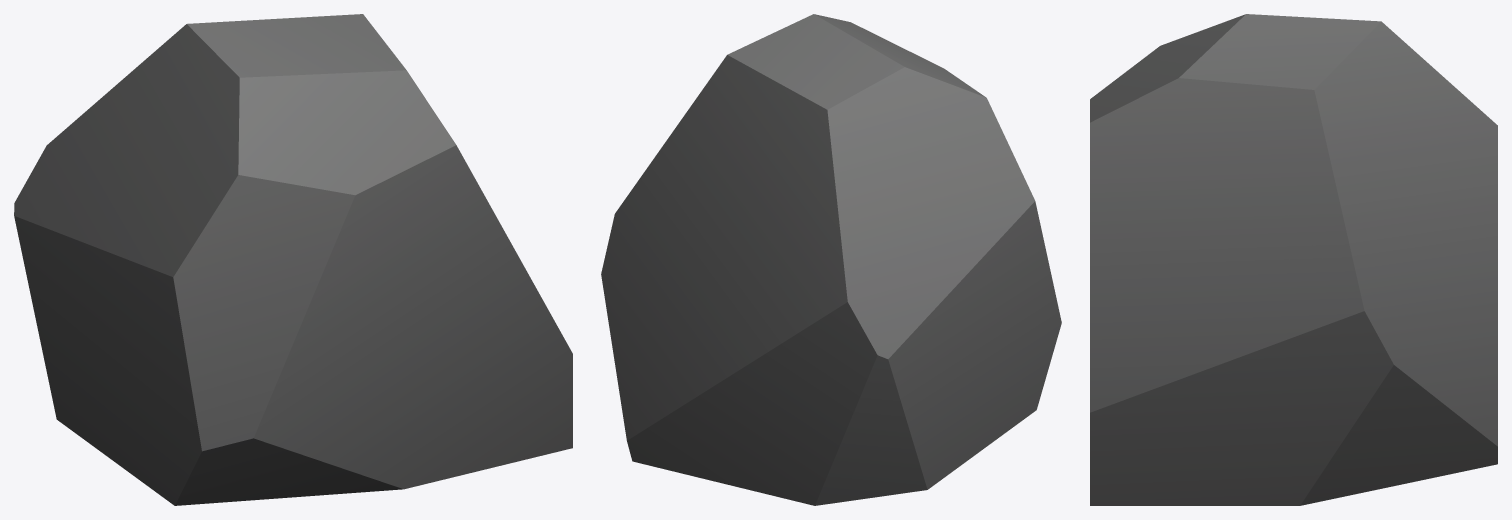
File: SM_Rock_01.fbx
3 views of the same model, side by side, from view 1: azimuth 30°, elevation 25°; view 2: azimuth 150°, elevation 25°; view 3: azimuth 270°, elevation 25° (orthographic). The views are drawn at different scales.
Parts seen in each view (by area): view 1: SM_Rock_01; view 2: SM_Rock_01; view 3: SM_Rock_01.
Boxes of the visible parts, box(x1,y1,x2,y2) form: SM_Rock_01: box(14, 14, 572, 505); SM_Rock_01: box(601, 14, 1061, 505); SM_Rock_01: box(1090, 14, 1497, 505).
Size of the model in its own units: 100 by 100 by 100.
